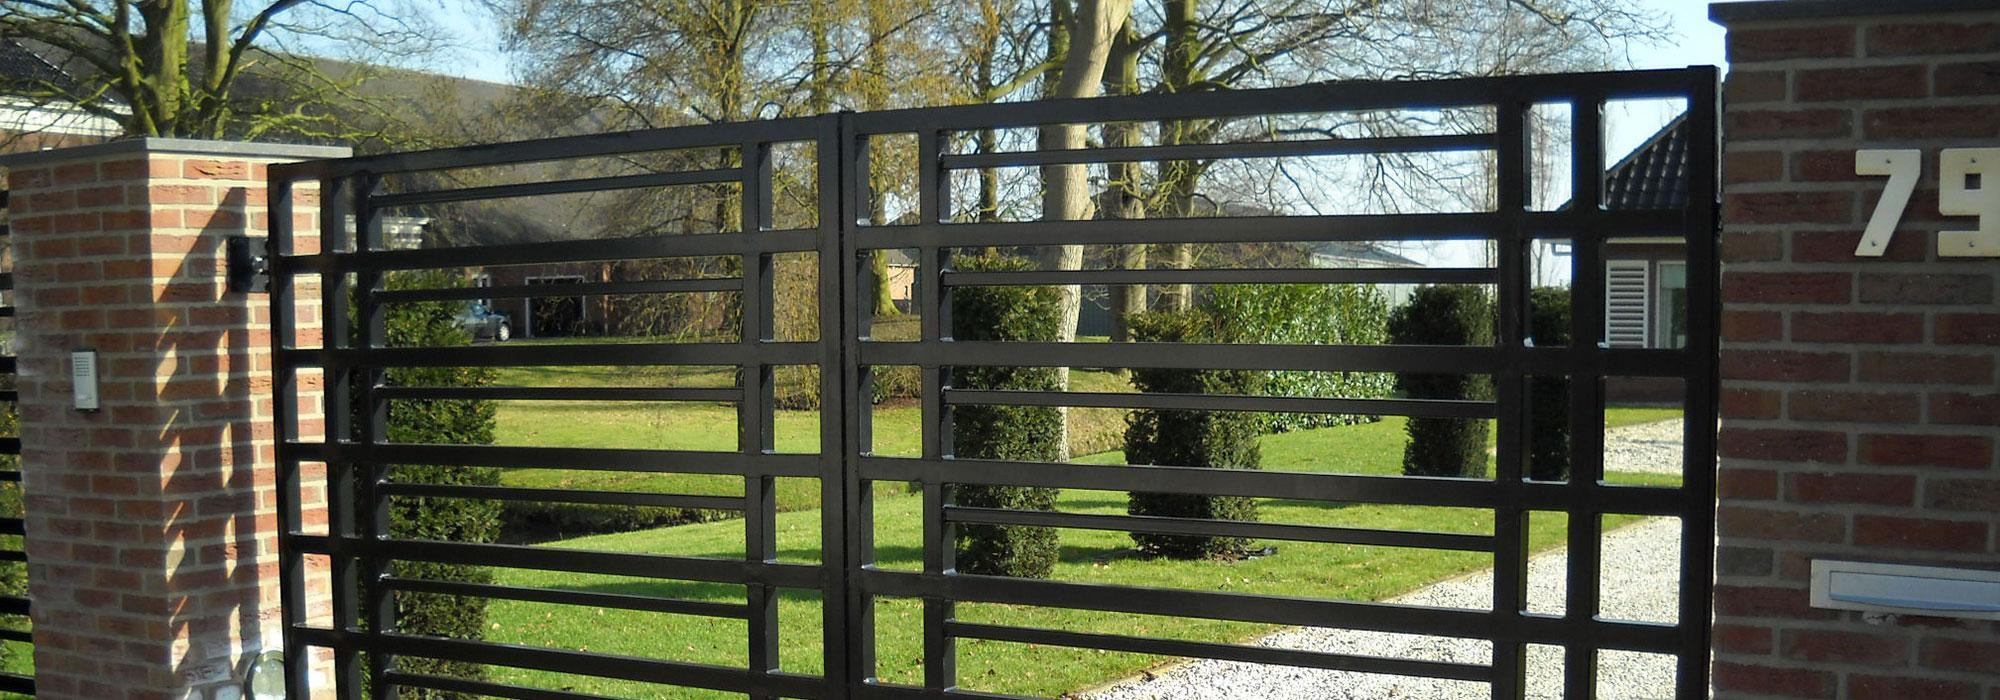obstacle: (0, 221, 907, 524), (1168, 201, 2000, 412)
